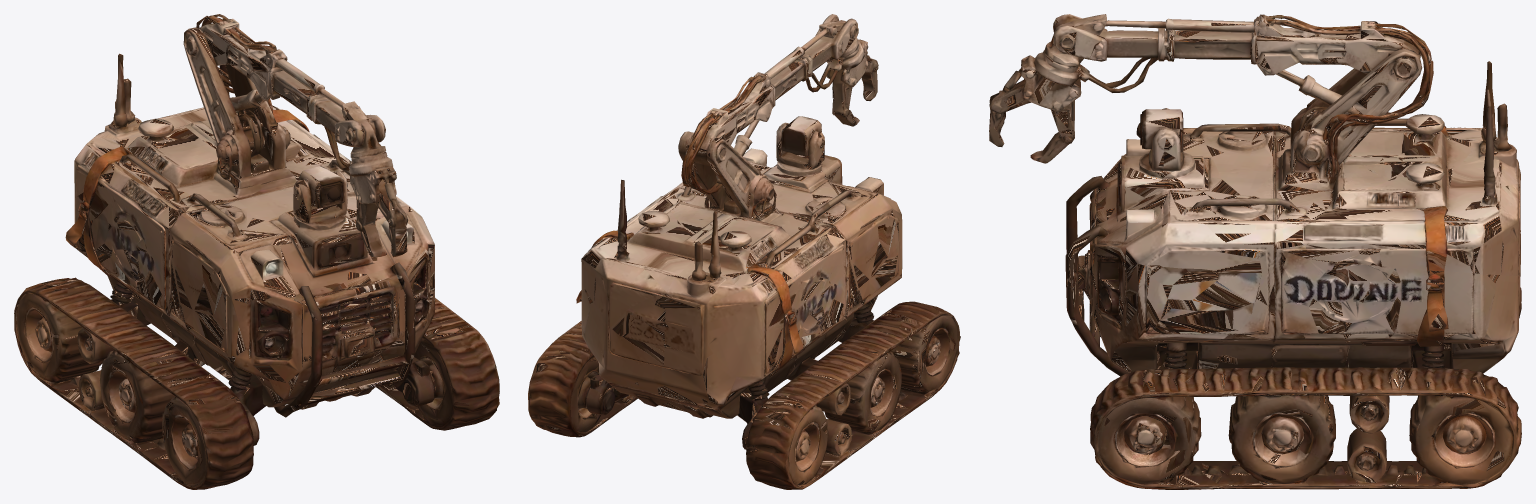
Rendered from rescue-robot-without-astronaut.glb.
The picture shows the model from 3 angles, left to right: view 1: azimuth 30°, elevation 25°; view 2: azimuth 150°, elevation 25°; view 3: azimuth 270°, elevation 25°; orthographic projection. The views are drawn at different scales.
Visible parts, largest first — view 1: tripo_node_82e499e2-967b-4beb-a651-3bd4355fab16; view 2: tripo_node_82e499e2-967b-4beb-a651-3bd4355fab16; view 3: tripo_node_82e499e2-967b-4beb-a651-3bd4355fab16.
Boxes of the visible parts, left/top/right/bottom form: tripo_node_82e499e2-967b-4beb-a651-3bd4355fab16: left=14, top=14, right=499, bottom=489; tripo_node_82e499e2-967b-4beb-a651-3bd4355fab16: left=528, top=14, right=960, bottom=489; tripo_node_82e499e2-967b-4beb-a651-3bd4355fab16: left=989, top=14, right=1521, bottom=489.
Bounding box in the file's own units: 0.6795 × 0.8073 × 0.9785.
1 material, 1 textured.
